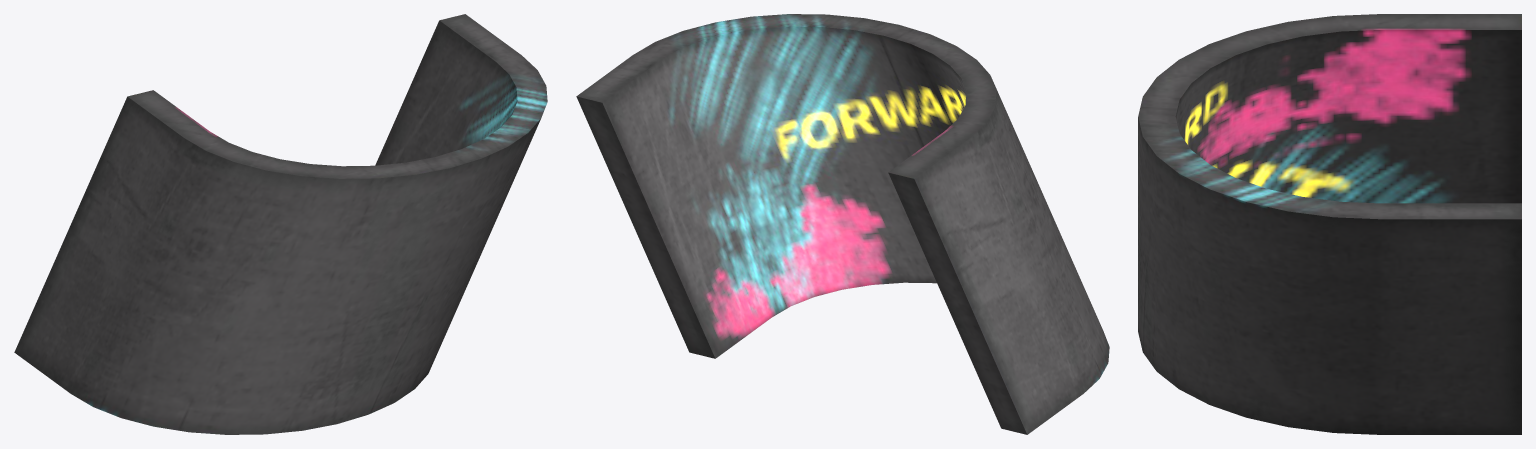
Rendered from duct_vert_lean_L.fbx.
3 views of the same model, side by side, from view 1: azimuth 30°, elevation 25°; view 2: azimuth 150°, elevation 25°; view 3: azimuth 270°, elevation 25° (orthographic). The views are drawn at different scales.
Visible parts, largest first — view 1: duct_vert_03.001; view 2: duct_vert_03.001; view 3: duct_vert_03.001.
Part boxes in pixels (x1,y1,x2,y2): duct_vert_03.001: [14, 14, 547, 434]; duct_vert_03.001: [576, 14, 1109, 434]; duct_vert_03.001: [1138, 14, 1521, 434].
Bounding box in the file's own units: 3669 × 1776 × 2171.
